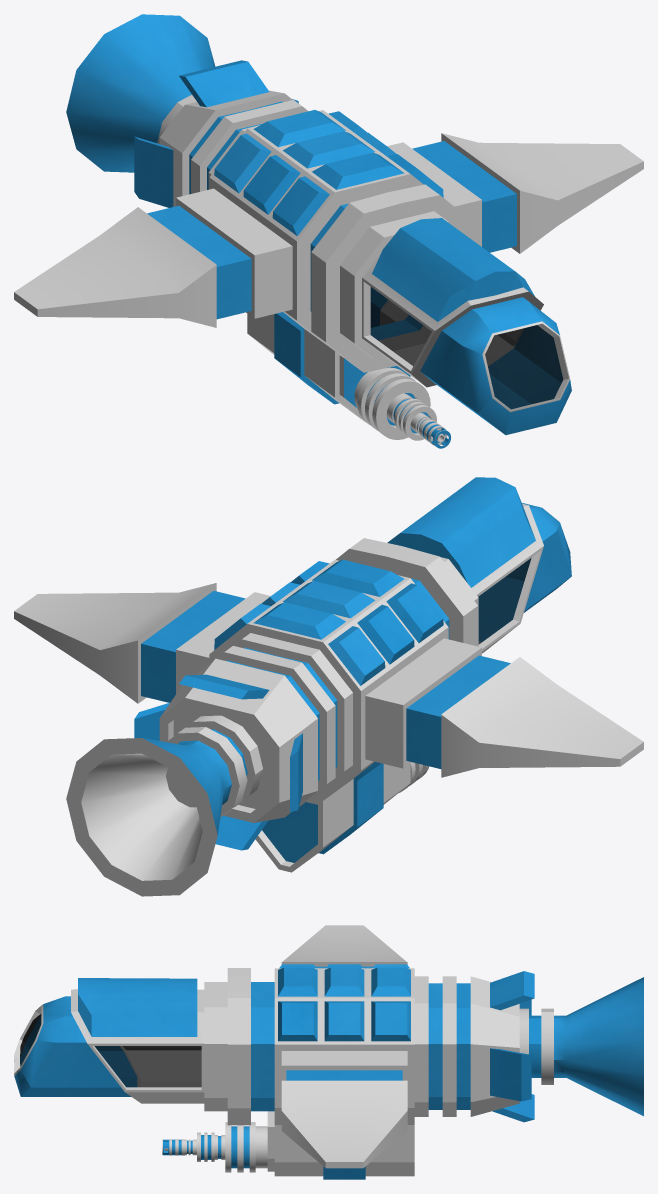
Rendered from BDA.fbx.
3 views of the same model, one above another, from view 1: azimuth 30°, elevation 25°; view 2: azimuth 150°, elevation 25°; view 3: azimuth 270°, elevation 25° (orthographic). The views are drawn at different scales.
Parts seen in each view (by area): view 1: BDA; view 2: BDA; view 3: BDA.
Boxes of the visible parts, bbox=[...] form: BDA: bbox=[14, 14, 643, 448]; BDA: bbox=[14, 477, 643, 896]; BDA: bbox=[14, 925, 643, 1179].
Bounding box in the file's own units: 8 × 3.15 × 8.99.
